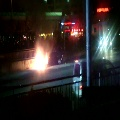fire: (29, 48, 48, 71)
